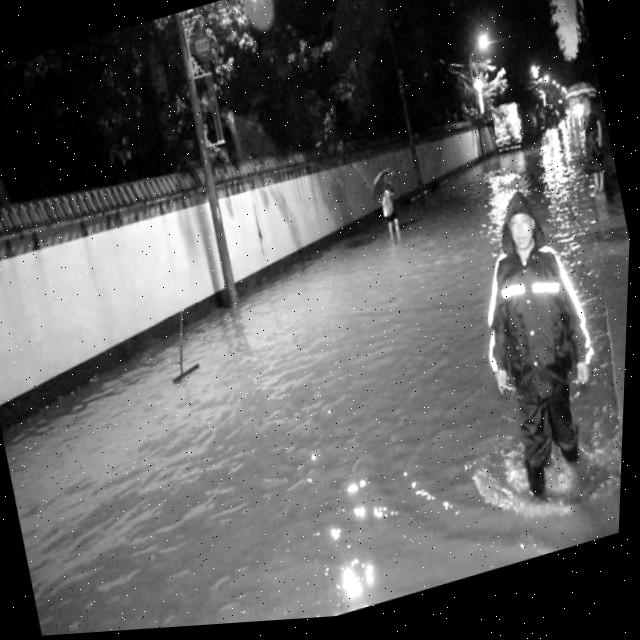civilian: (445, 171, 632, 497), (566, 104, 624, 208), (366, 174, 412, 249)
